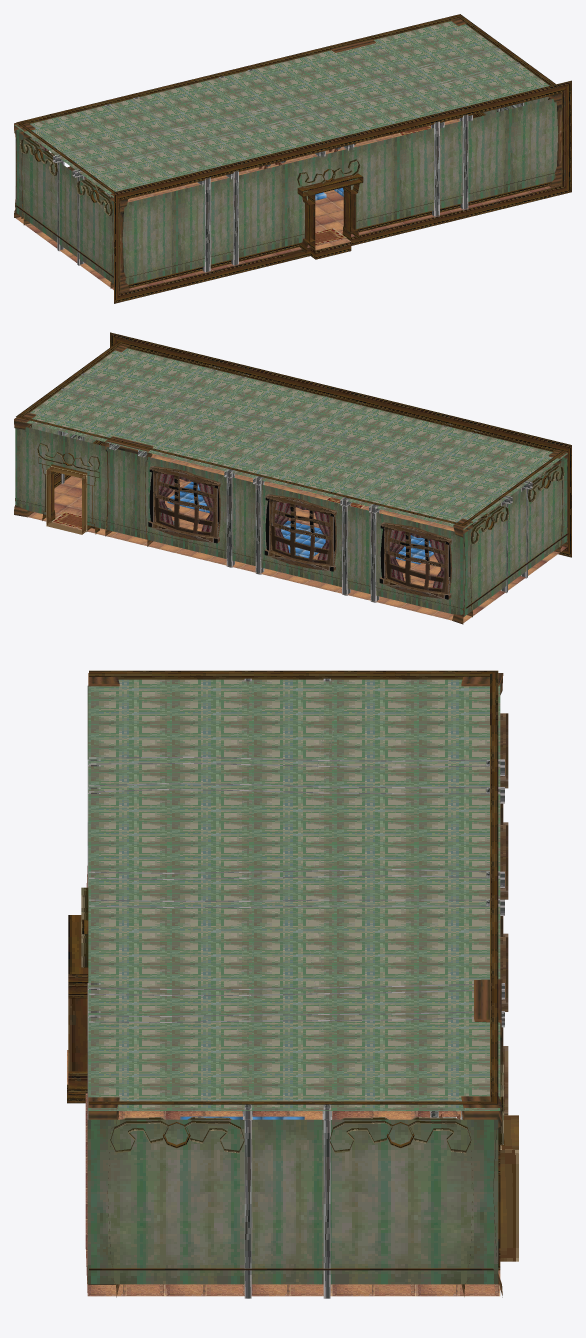
File: room_22.glb
The picture shows the model from 3 angles, top to bottom: view 1: azimuth 30°, elevation 25°; view 2: azimuth 150°, elevation 25°; view 3: azimuth 270°, elevation 25°; orthographic projection. The views are drawn at different scales.
Visible parts, largest first — view 1: room_22; view 2: room_22; view 3: room_22.
Part boxes in pixels (x1,y1,x2,y2): room_22: [14, 14, 571, 303]; room_22: [14, 332, 571, 624]; room_22: [67, 670, 518, 1298].
Size of the model in its own units: 2575 by 600 by 1100.
24 materials, 24 textured.
